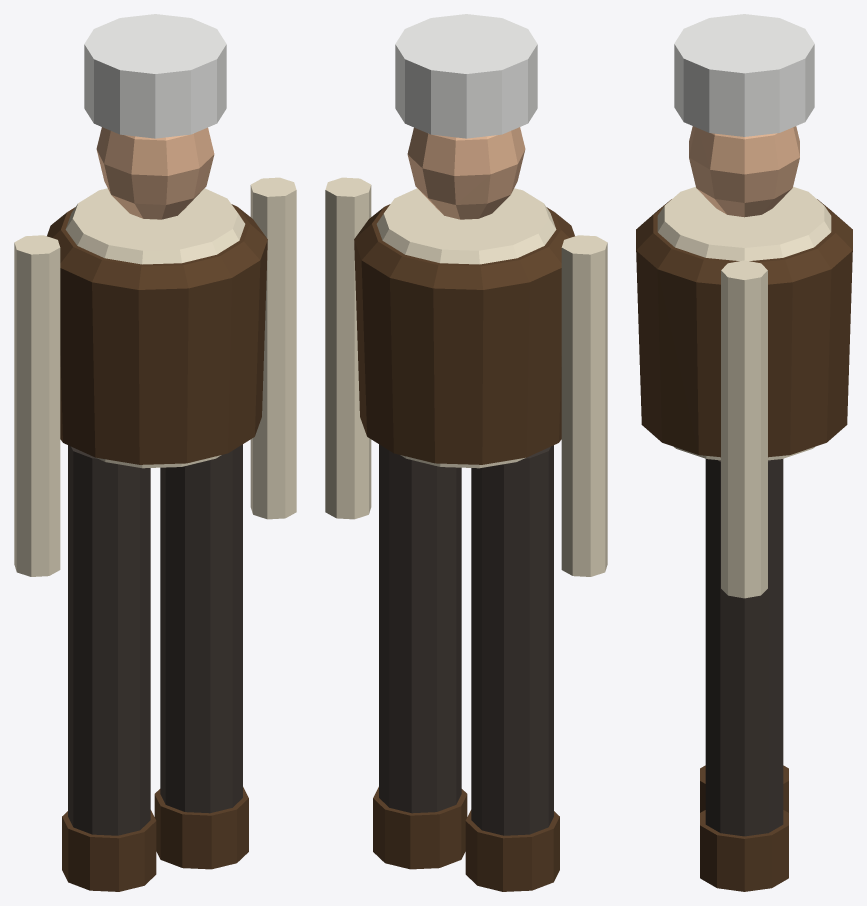
File: man_character.obj
3 views of the same model, side by side, from view 1: azimuth 30°, elevation 25°; view 2: azimuth 150°, elevation 25°; view 3: azimuth 270°, elevation 25° (orthographic).
Visible parts, largest first — view 1: man_character; view 2: man_character; view 3: man_character.
Boxes of the visible parts, x1,y1,x2,y2 form: man_character: (14, 14, 296, 891); man_character: (325, 14, 607, 891); man_character: (636, 14, 852, 891).
Bounding box in the file's own units: 0.54 × 1.52 × 0.3704.
